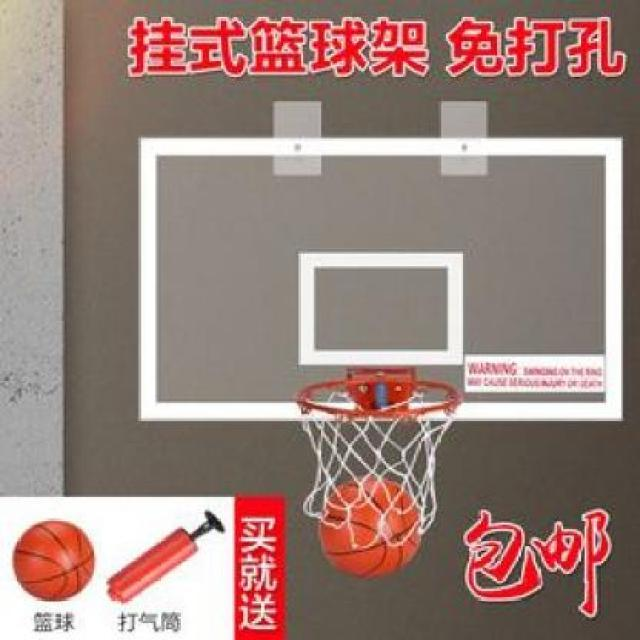basketball: (321, 477, 423, 579), (12, 518, 96, 600)
rim: (298, 382, 466, 526)
